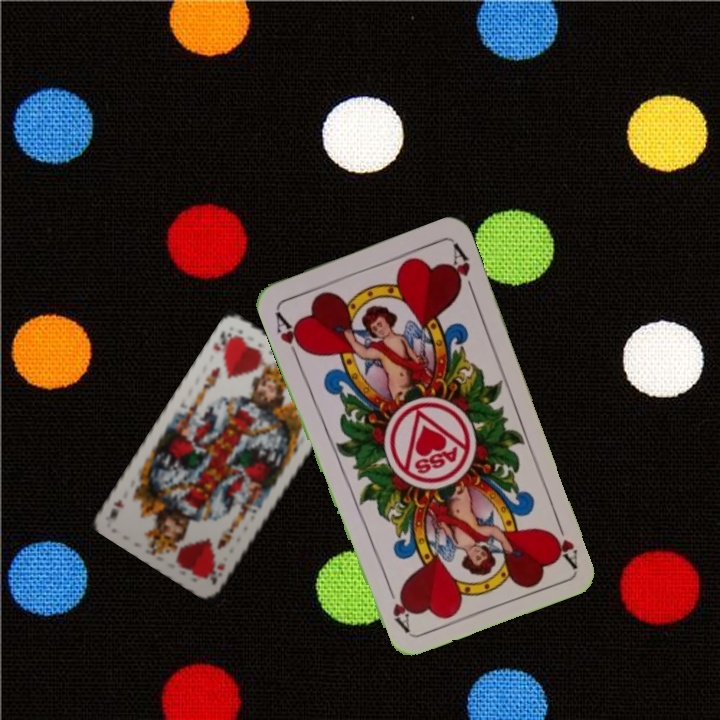HA: (271, 307, 310, 363), (546, 511, 581, 569)
HK: (209, 327, 238, 355), (202, 558, 227, 587)
